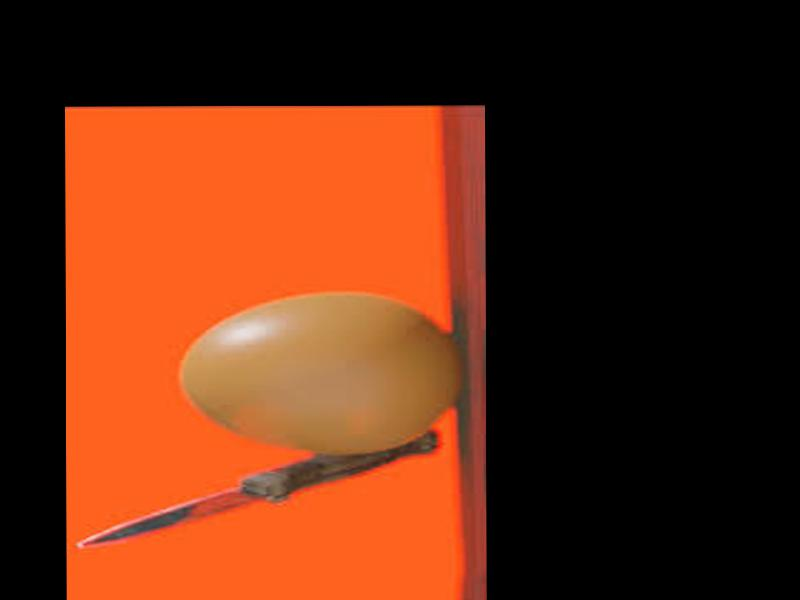Eggs: (183, 294, 456, 453)
